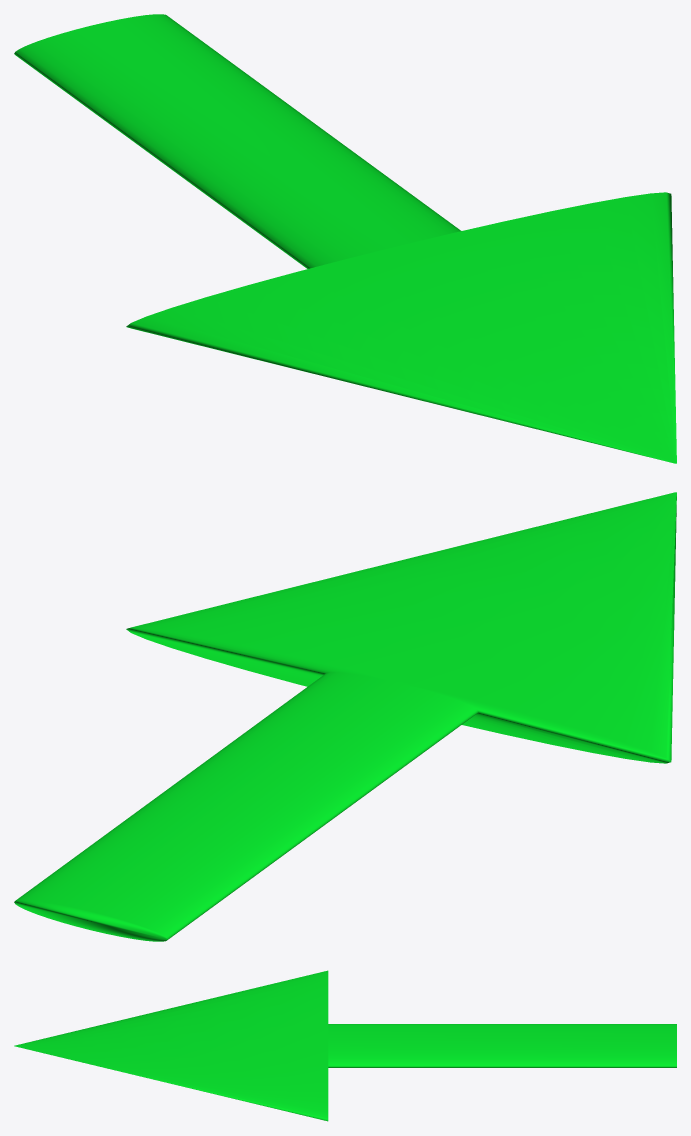
The model's file is Arrow forward.fbx.
The picture shows the model from 3 angles, top to bottom: view 1: azimuth 30°, elevation 25°; view 2: azimuth 150°, elevation 25°; view 3: azimuth 270°, elevation 25°; orthographic projection. The views are drawn at different scales.
Parts seen in each view (by area): view 1: Cylinder; view 2: Cylinder; view 3: Cylinder.
Part boxes in pixels (bbox=[...]): Cylinder: bbox=[14, 14, 676, 463]; Cylinder: bbox=[14, 492, 676, 941]; Cylinder: bbox=[14, 970, 676, 1121].
Bounding box in the file's own units: 33.97 × 1.71 × 63.14.
